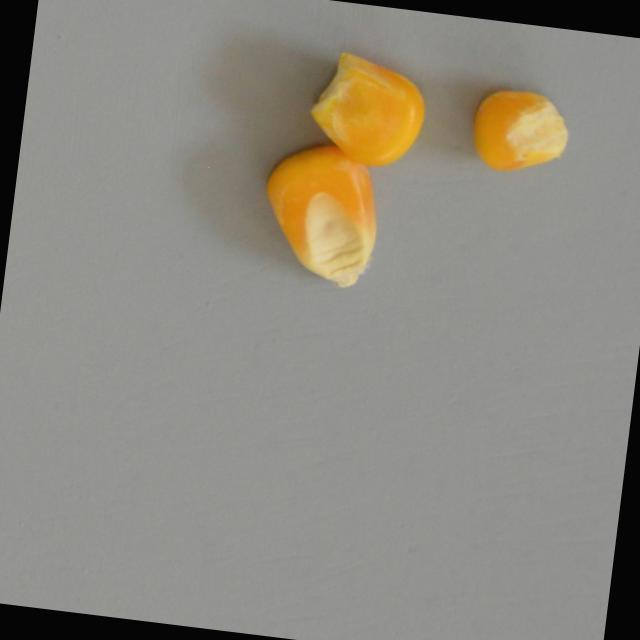entero: (250, 136, 389, 292)
pelicula: (302, 46, 428, 170), (464, 84, 571, 179)
